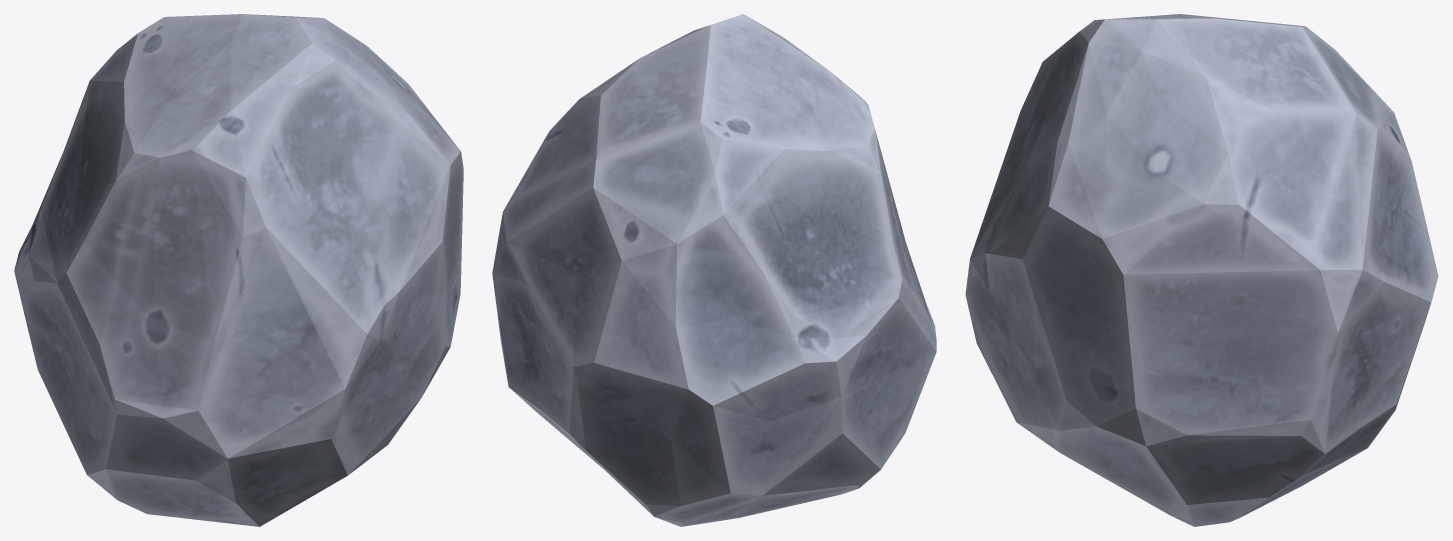
The model's file is RockBeach.fbx.
The picture shows the model from 3 angles, left to right: view 1: azimuth 30°, elevation 25°; view 2: azimuth 150°, elevation 25°; view 3: azimuth 270°, elevation 25°; orthographic projection. The views are drawn at different scales.
Parts seen in each view (by area): view 1: RockBeach; view 2: RockBeach; view 3: RockBeach.
Boxes of the visible parts, <box> form: RockBeach: <box>14,14,463,526</box>; RockBeach: <box>492,14,936,526</box>; RockBeach: <box>965,14,1438,526</box>.
Bounding box in the file's own units: 55.54 × 67.56 × 59.54.
